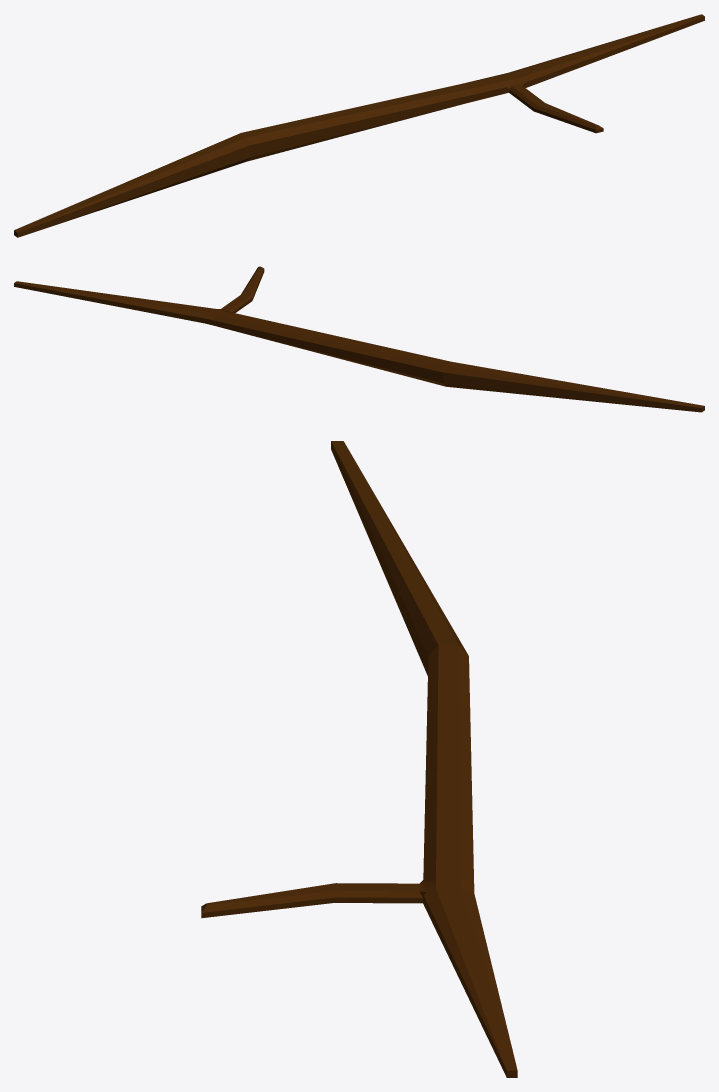
File: stick.fbx
3 views of the same model, one above another, from view 1: azimuth 30°, elevation 25°; view 2: azimuth 150°, elevation 25°; view 3: azimuth 270°, elevation 25° (orthographic). The views are drawn at different scales.
Visible parts, largest first — view 1: pCube1; view 2: pCube1; view 3: pCube1.
Boxes of the visible parts, <box> form: pCube1: <box>14,14,704,237</box>; pCube1: <box>14,266,704,412</box>; pCube1: <box>201,441,517,1077</box>.
Size of the model in its own units: 13.14 by 0.4171 by 2.79.
